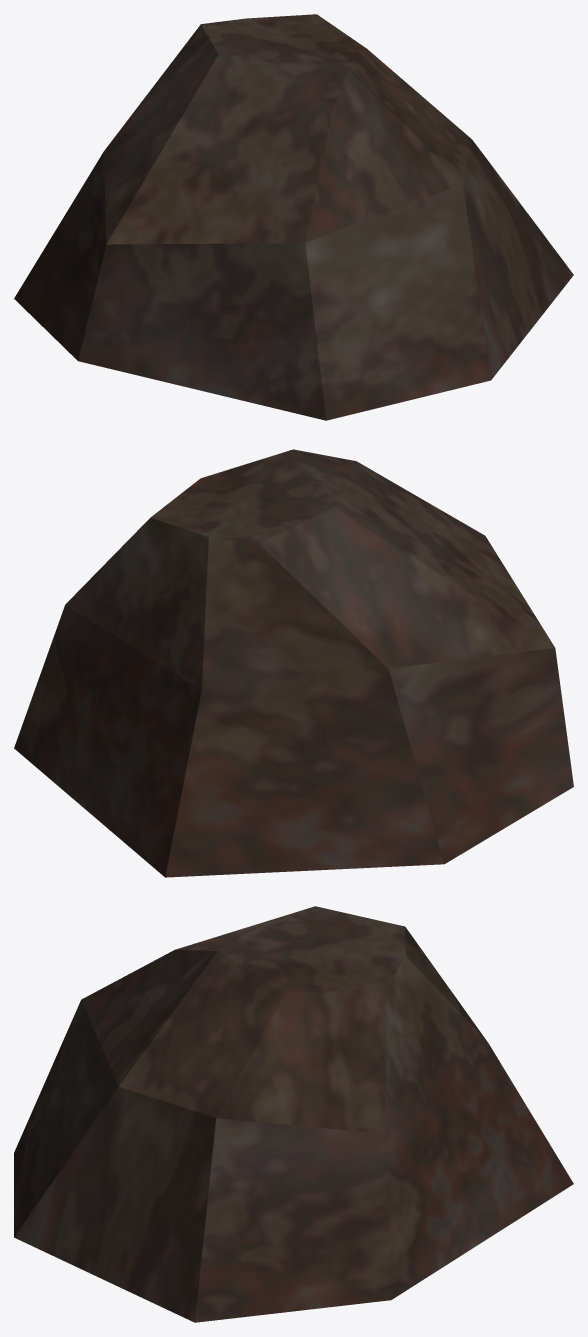
The model's file is rock2.glb.
The picture shows the model from 3 angles, top to bottom: view 1: azimuth 30°, elevation 25°; view 2: azimuth 150°, elevation 25°; view 3: azimuth 270°, elevation 25°; orthographic projection. The views are drawn at different scales.
Visible parts, largest first — view 1: Cylinder; view 2: Cylinder; view 3: Cylinder.
Part boxes in pixels (<box>): Cylinder: <box>14,14,573,420</box>; Cylinder: <box>14,449,573,877</box>; Cylinder: <box>14,906,573,1322</box>.
Size of the model in its own units: 3.26 by 1.65 by 3.16.
Materials: 1 (1 with a texture image).
